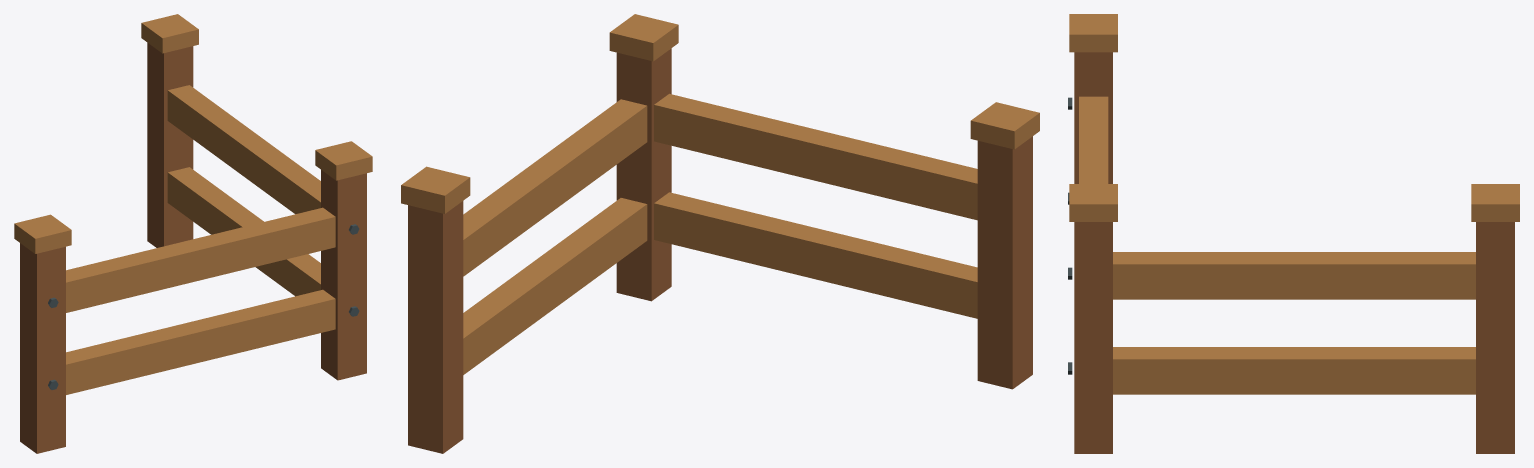
File: fence_kit__fence_corner.glb
3 renders of one model, left to right at view 1: azimuth 30°, elevation 25°; view 2: azimuth 150°, elevation 25°; view 3: azimuth 270°, elevation 25°, orthographic. The views are drawn at different scales.
Visible parts, largest first — view 1: fence_corner__wood2.001, fence_corner__wood.001; view 2: fence_corner__wood2.001, fence_corner__wood.001; view 3: fence_corner__wood2.001, fence_corner__wood.001.
Part boxes in pixels (x1=…): fence_corner__wood2.001: x1=14, y1=14, x2=372, y2=394; fence_corner__wood.001: x1=20, y1=42, x2=366, y2=453; fence_corner__wood2.001: x1=401, y1=14, x2=1039, y2=374; fence_corner__wood.001: x1=408, y1=48, x2=1032, y2=453; fence_corner__wood2.001: x1=1069, y1=14, x2=1519, y2=394; fence_corner__wood.001: x1=1074, y1=52, x2=1514, y2=453.
Size of the model in its own units: 1.85 by 1.14 by 1.85.
